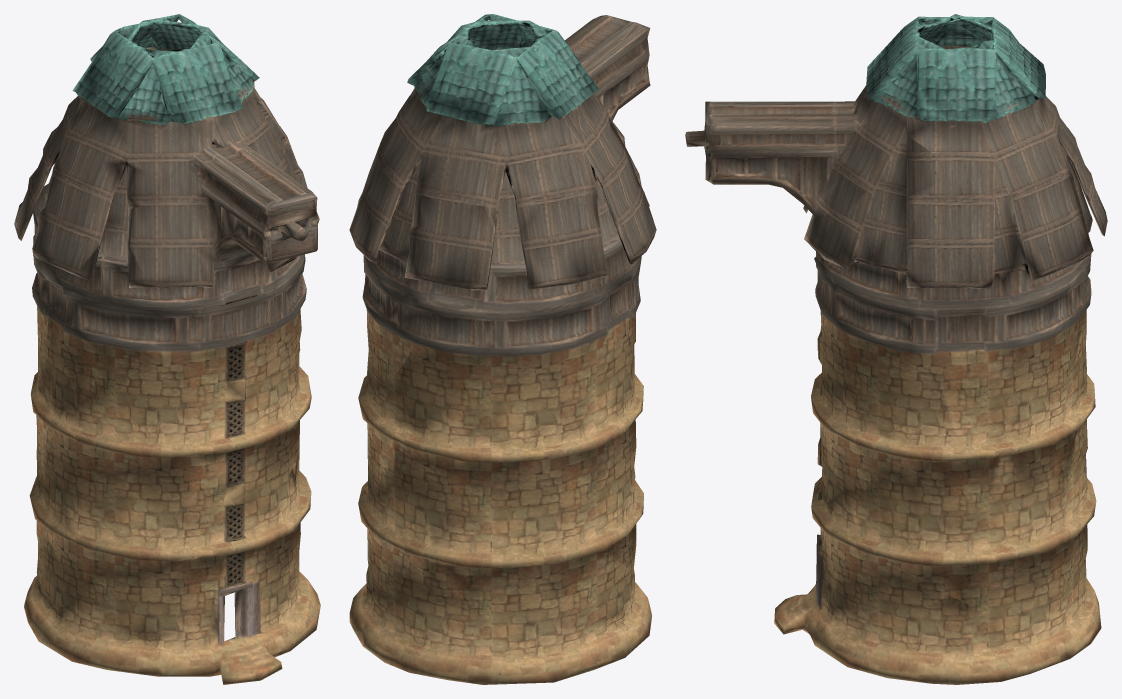
The model's file is SM_PROXY_WindMill.fbx.
The picture shows the model from 3 angles, left to right: view 1: azimuth 30°, elevation 25°; view 2: azimuth 150°, elevation 25°; view 3: azimuth 270°, elevation 25°; orthographic projection.
Parts seen in each view (by area): view 1: SM_PROXY_WindMill_LOD0; view 2: SM_PROXY_WindMill_LOD0; view 3: SM_PROXY_WindMill_LOD0.
Boxes of the visible parts, left/top/right/bottom form: SM_PROXY_WindMill_LOD0: left=14, top=14, right=320, bottom=684; SM_PROXY_WindMill_LOD0: left=349, top=14, right=656, bottom=684; SM_PROXY_WindMill_LOD0: left=685, top=14, right=1107, bottom=684.
Bounding box in the file's own units: 4732 × 6454 × 9940.
1 material, 1 textured.
